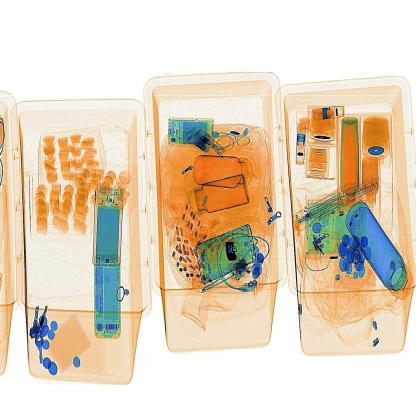pliers: (208, 227, 247, 267)
